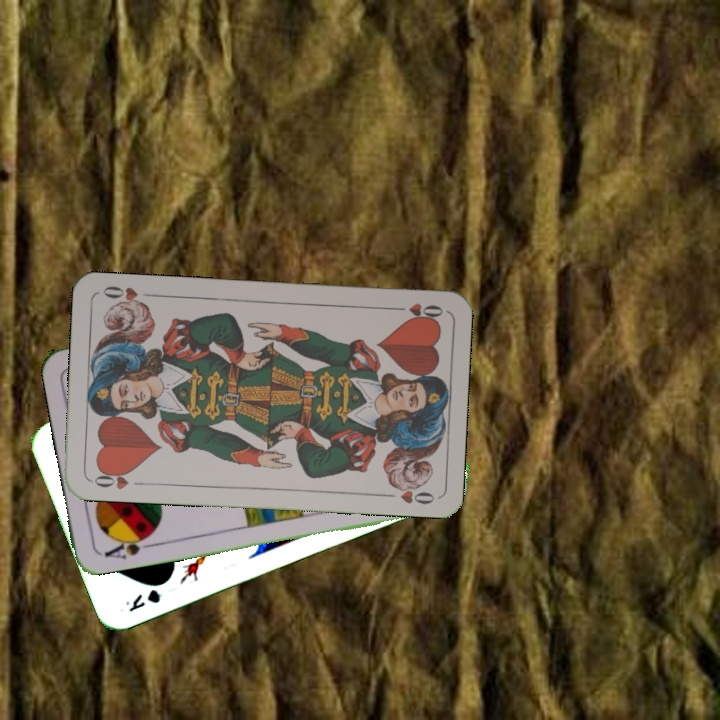GK: (121, 585, 163, 615)
HO: (88, 465, 147, 492), (387, 299, 446, 323)
SA: (100, 529, 157, 562)
